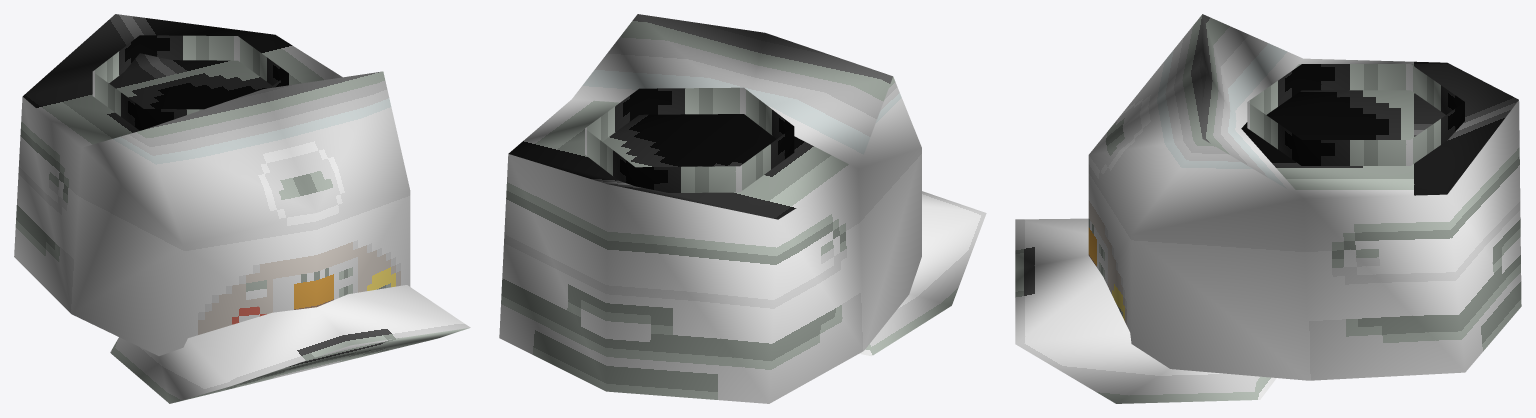
3 renders of one model, left to right at view 1: azimuth 30°, elevation 25°; view 2: azimuth 150°, elevation 25°; view 3: azimuth 270°, elevation 25°, orthographic. The views are drawn at different scales.
Visible parts, largest first — view 1: 3533IMEL01_34; view 2: 3533IMEL01_34; view 3: 3533IMEL01_34.
Boxes of the visible parts, bbox=[...] form: 3533IMEL01_34: bbox=[14, 14, 470, 403]; 3533IMEL01_34: bbox=[499, 14, 986, 403]; 3533IMEL01_34: bbox=[1015, 14, 1521, 403].
Bounding box in the file's own units: 0.7925 × 0.6726 × 1.14.
3 materials, 3 textured.
